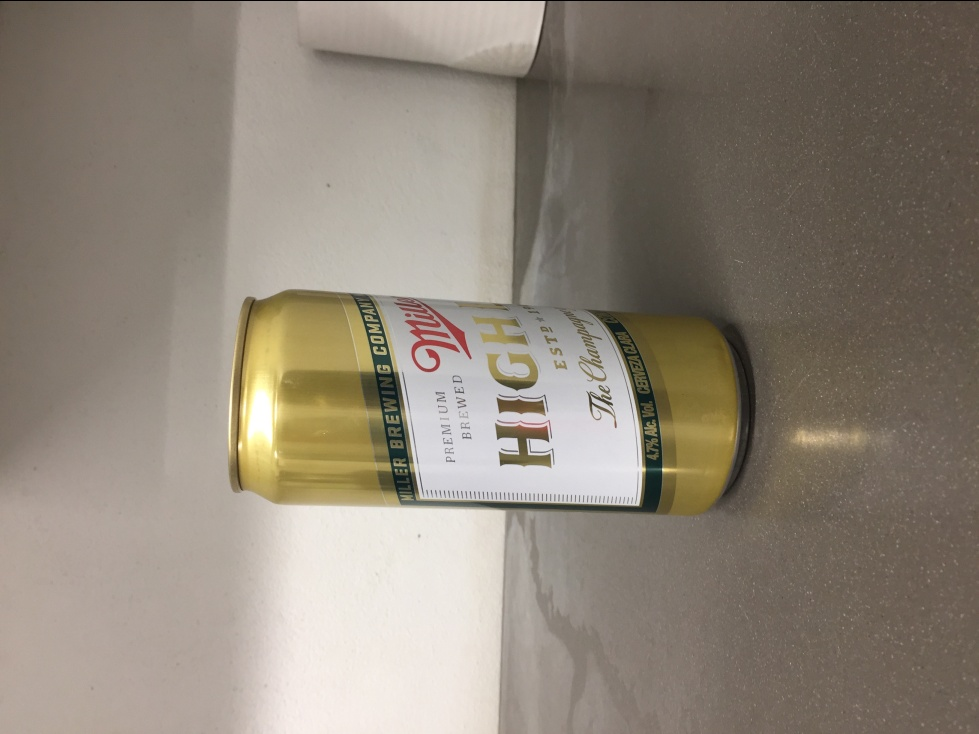miller: (228, 286, 750, 518)
